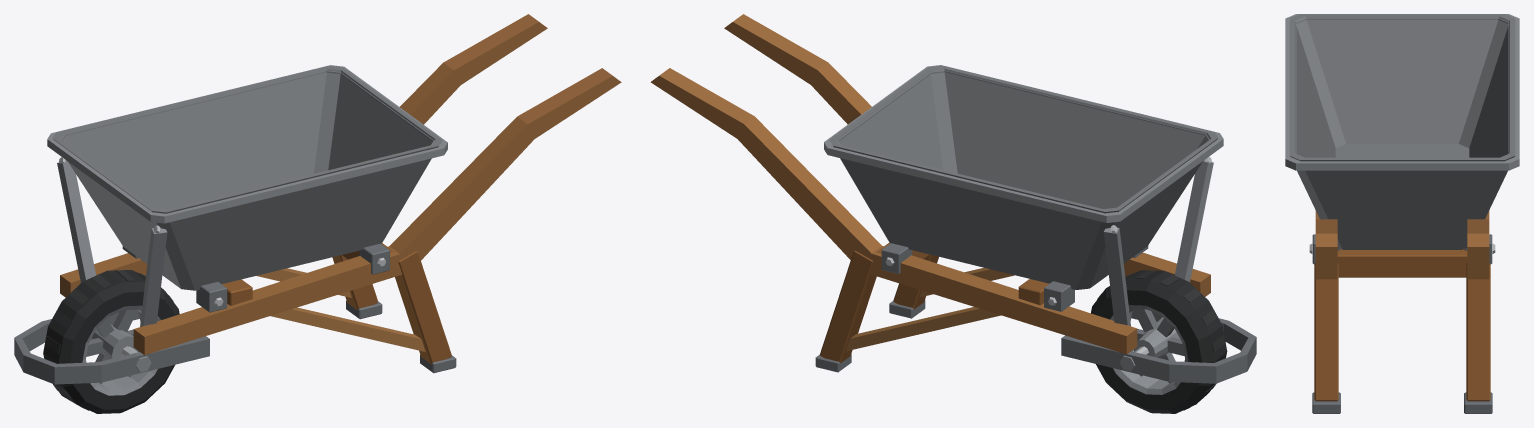
File: Wheelbarrow.glb
3 views of the same model, side by side, from view 1: azimuth 30°, elevation 25°; view 2: azimuth 150°, elevation 25°; view 3: azimuth 270°, elevation 25° (orthographic). The views are drawn at different scales.
Visible parts, largest first — view 1: Wheelbarrow.Static, Wheelbarrow.Wheel; view 2: Wheelbarrow.Static, Wheelbarrow.Wheel; view 3: Wheelbarrow.Static.
Part boxes in pixels (box(x1,y1,x2,y2)): Wheelbarrow.Static: box(14, 14, 621, 384); Wheelbarrow.Wheel: box(43, 270, 179, 413); Wheelbarrow.Static: box(650, 14, 1256, 383); Wheelbarrow.Wheel: box(1091, 270, 1227, 413); Wheelbarrow.Static: box(1285, 14, 1519, 413).
Size of the model in its own units: 2.22 by 0.964 by 0.786.
